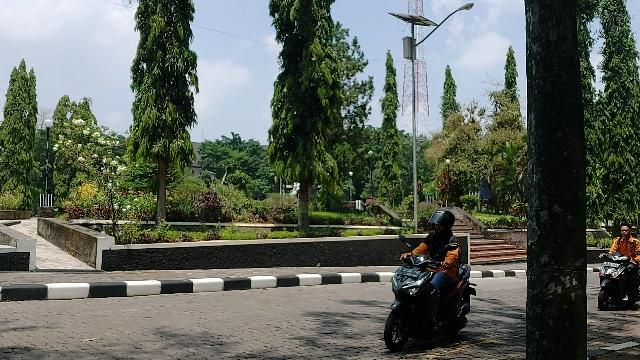helm: (430, 211, 456, 234)
motor: (385, 256, 478, 353), (599, 254, 640, 312)
non-helm: (621, 224, 633, 239)
